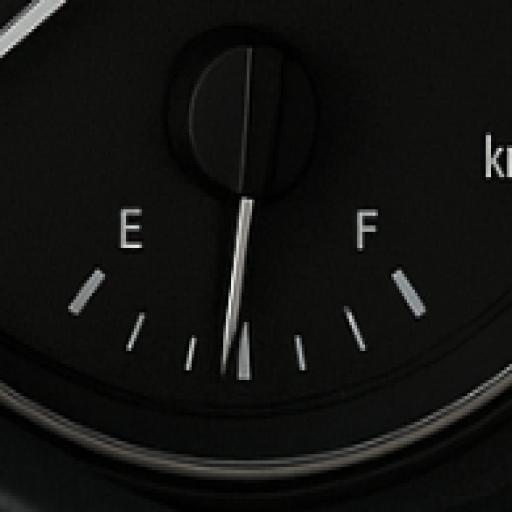empty: (116, 201, 145, 255)
full: (354, 204, 379, 256)
guage_area: (11, 10, 510, 477)
needle_center: (183, 36, 326, 220)
needle_tip: (213, 313, 243, 379)
